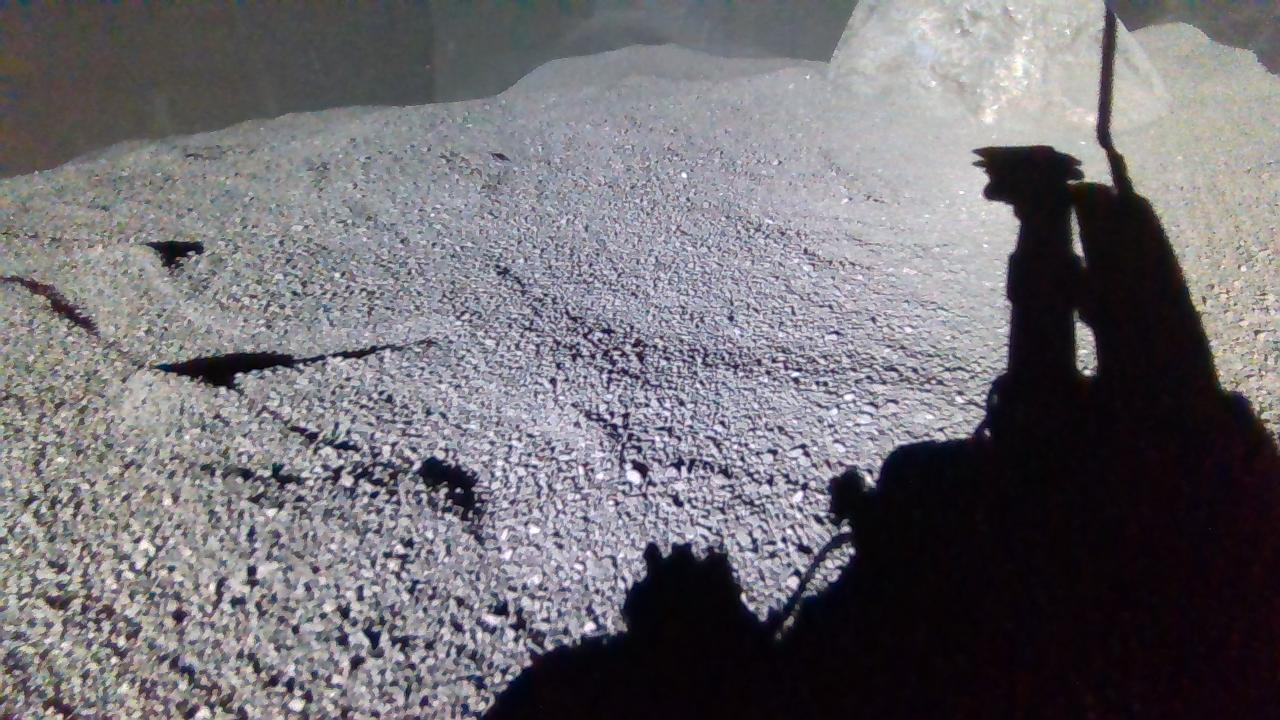rock: (831, 0, 1167, 133)
